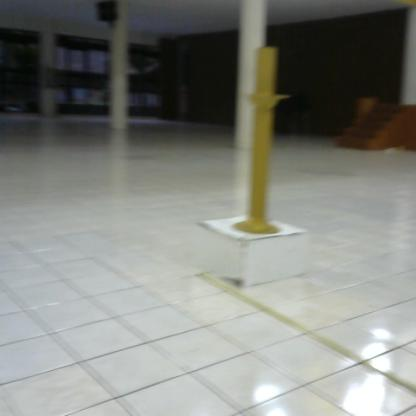pole: (228, 44, 296, 239)
